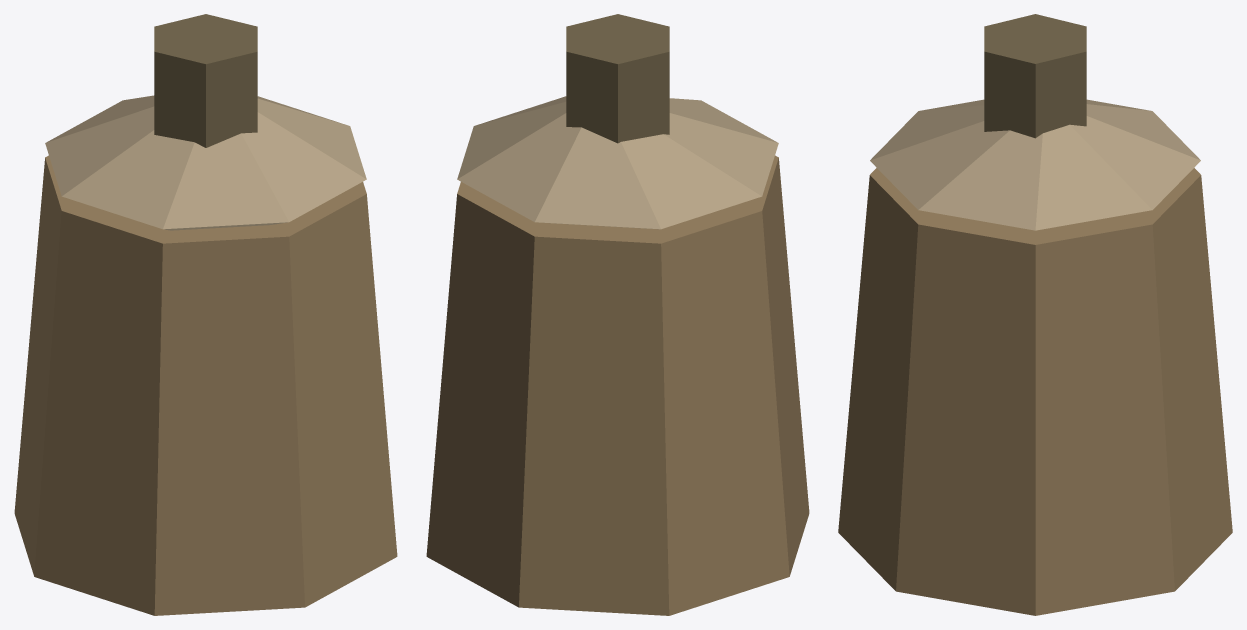
File: qc_grain_sack.obj
3 renders of one model, left to right at view 1: azimuth 30°, elevation 25°; view 2: azimuth 150°, elevation 25°; view 3: azimuth 270°, elevation 25°, orthographic.
Parts seen in each view (by area): view 1: qc_grain_sack; view 2: qc_grain_sack; view 3: qc_grain_sack.
Boxes of the visible parts, x1,y1,x2,y2 form: qc_grain_sack: (14, 14, 397, 615); qc_grain_sack: (426, 14, 809, 615); qc_grain_sack: (838, 14, 1232, 615).
Size of the model in its own units: 0.5 by 0.69 by 0.5.
